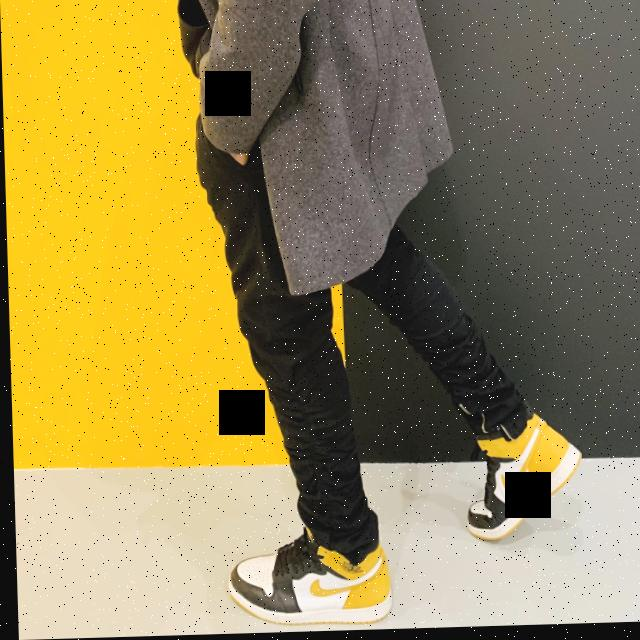shoes: (219, 519, 401, 635), (452, 401, 587, 555)
